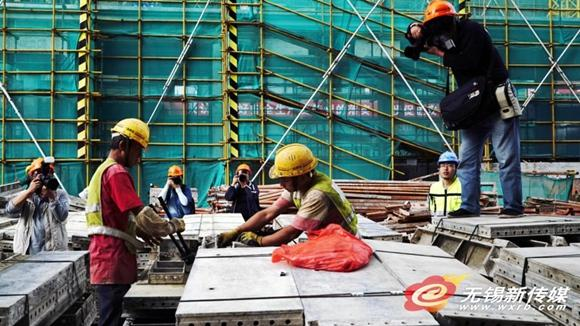helmet: (269, 144, 317, 177), (112, 119, 150, 152), (420, 1, 457, 25), (29, 161, 55, 178), (439, 152, 459, 167), (169, 166, 184, 178), (237, 165, 252, 175)
